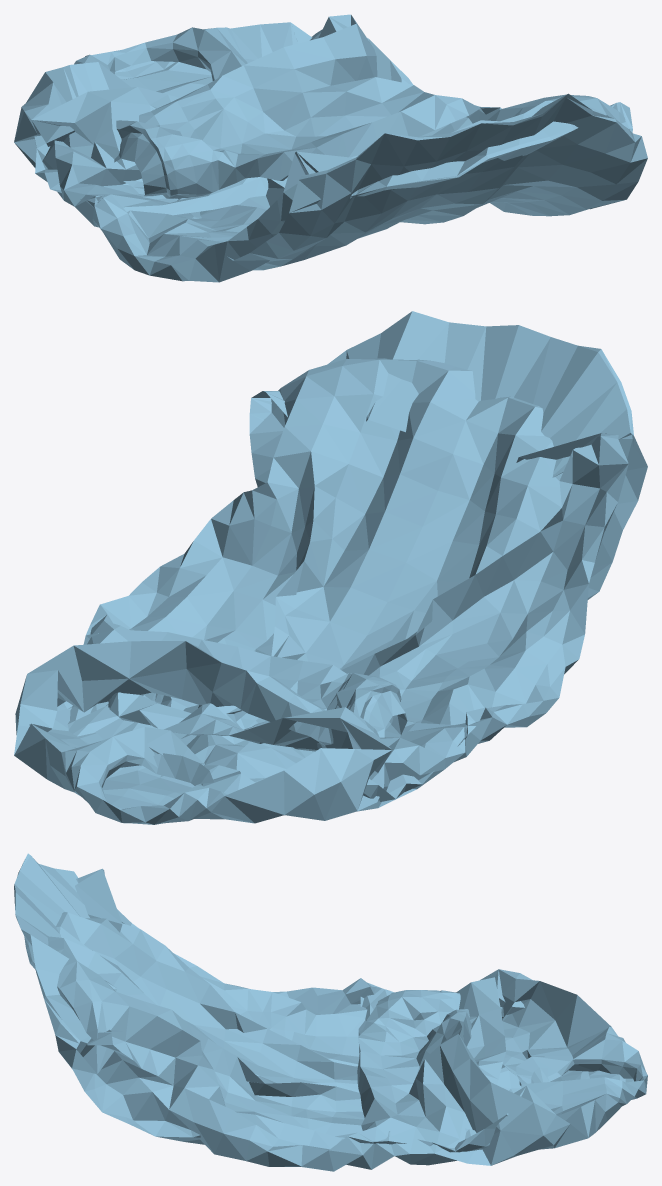
The model's file is frame_03.glb.
3 renders of one model, top to bottom at view 1: azimuth 30°, elevation 25°; view 2: azimuth 150°, elevation 25°; view 3: azimuth 270°, elevation 25°, orthographic. The views are drawn at different scales.
Parts seen in each view (by area): view 1: frame_03.obj; view 2: frame_03.obj; view 3: frame_03.obj.
Part boxes in pixels (bbox=[...]): frame_03.obj: bbox=[14, 14, 647, 282]; frame_03.obj: bbox=[14, 311, 647, 824]; frame_03.obj: bbox=[14, 853, 647, 1171].
Size of the model in its own units: 1.07 by 0.6056 by 1.67.
